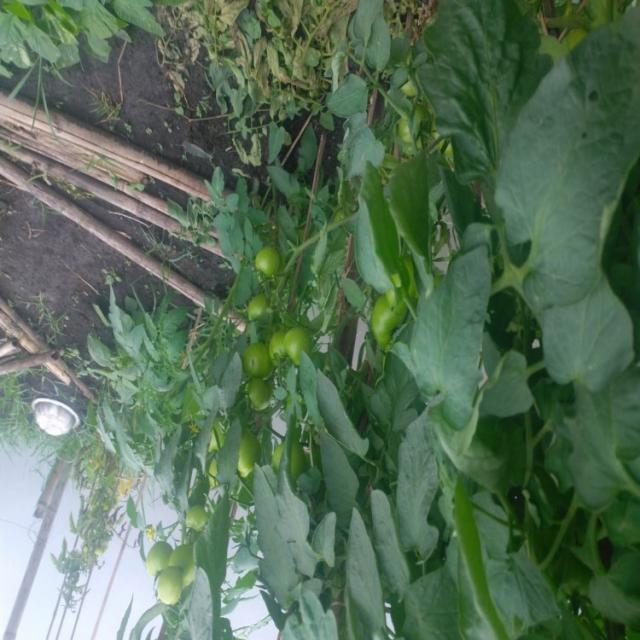tomato: (255, 324, 317, 382), (161, 522, 209, 578), (365, 273, 403, 335), (235, 287, 273, 333), (255, 230, 289, 277), (235, 331, 269, 374), (146, 572, 183, 611), (134, 536, 181, 565), (187, 510, 218, 543), (223, 440, 261, 460)
